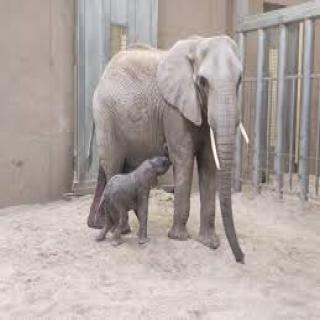Elephant: (83, 25, 258, 269), (88, 152, 179, 250)
